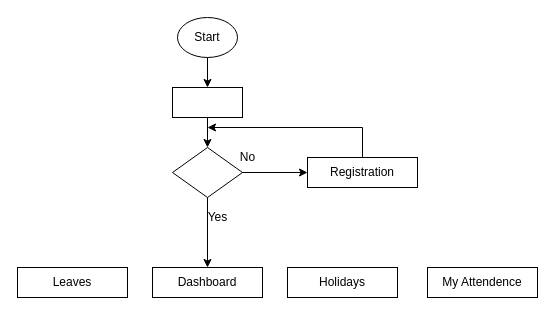
The diagram is 555 pixels wide and 315 high, and some of its shapes have lost their labels. Here are the shapes that lost their labels. From the top down, the box of each, then its label:
(172, 86, 242, 118): User
(172, 146, 242, 198): Login
